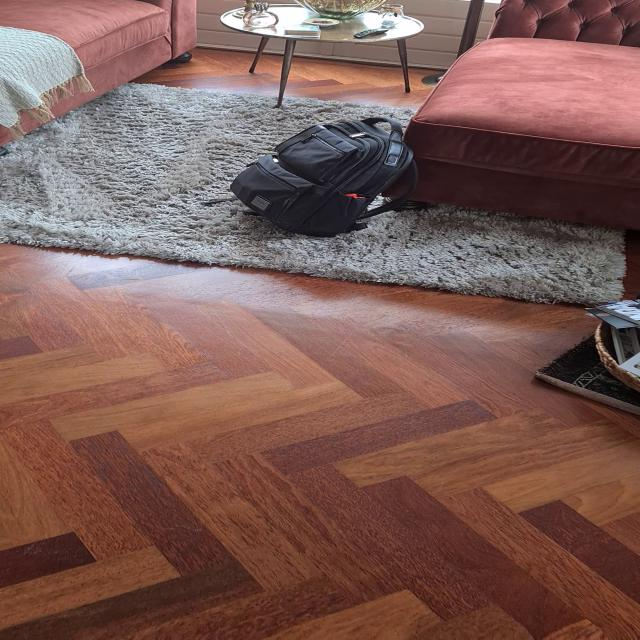backpack: (223, 113, 428, 242)
